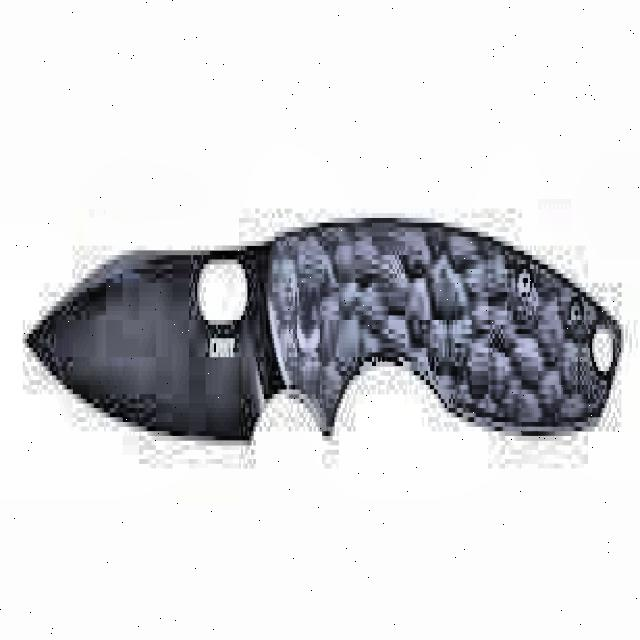knife: (27, 219, 624, 446)
